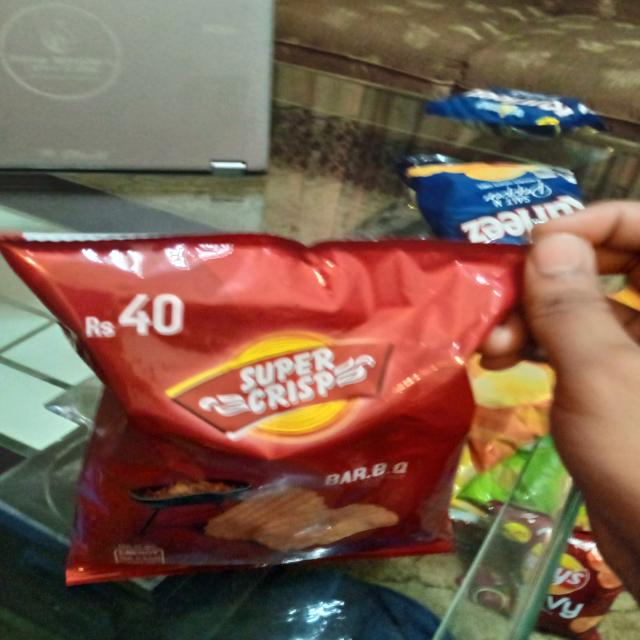Plastic: (0, 220, 546, 589)
